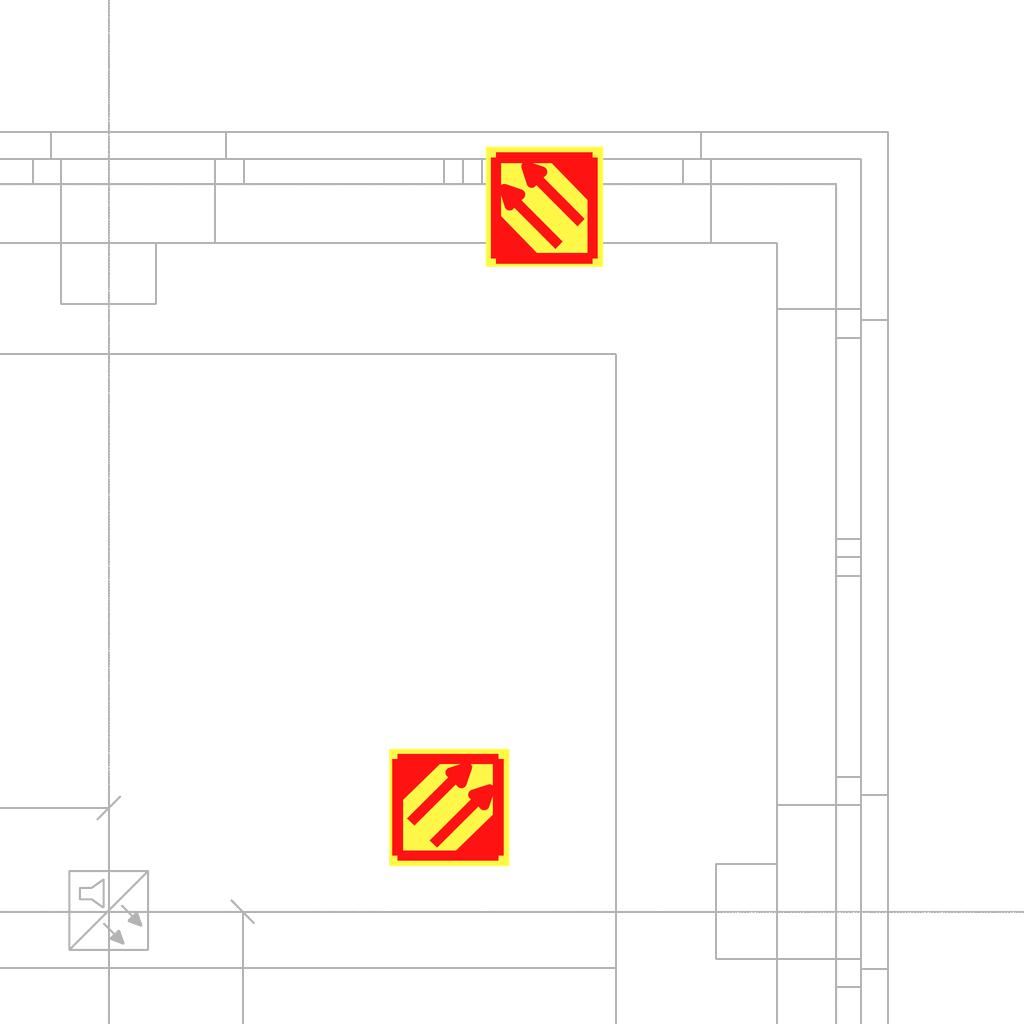ASR_Ansaugrauchmelder: (387, 745, 512, 870), (482, 144, 607, 269)
